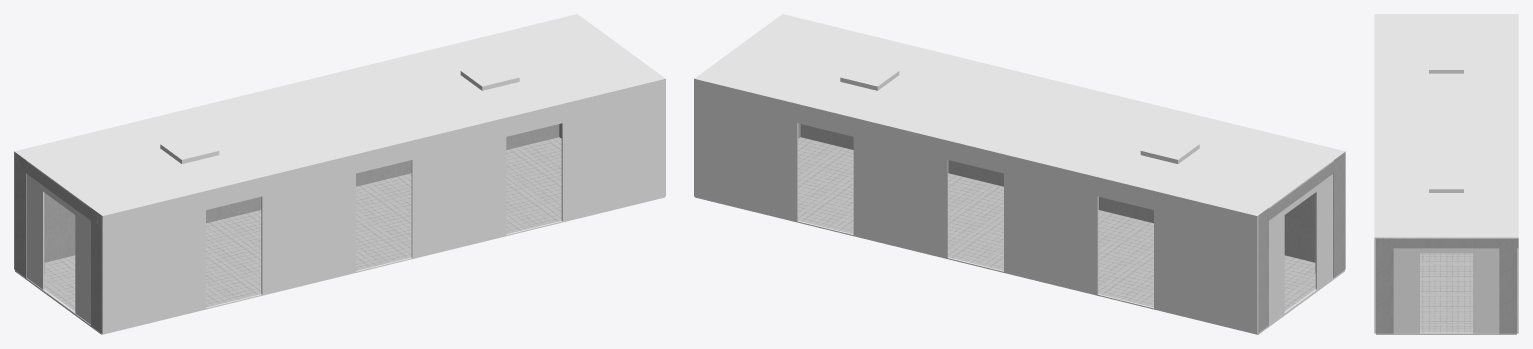
The model's file is CDATunnel1.fbx.
The picture shows the model from 3 angles, left to right: view 1: azimuth 30°, elevation 25°; view 2: azimuth 150°, elevation 25°; view 3: azimuth 270°, elevation 25°; orthographic projection. The views are drawn at different scales.
Visible parts, largest first — view 1: node_id19, node_id45, node_id48 (×2), node_id23 (×2), node_id33, node_id51 (×2), node_id42, node_id39, node_id30; view 2: node_id23, node_id45, node_id48 (×2), node_id19 (×2), node_id33, node_id51 (×2), node_id42, node_id39, node_id30; view 3: node_id45, node_id36, node_id48 (×2), node_id51 (×2), node_id27, node_id39, node_id42, node_id19, node_id23.
Boxes of the visible parts, bbox=[...] form: node_id19: bbox=[101, 78, 665, 333]; node_id45: bbox=[15, 14, 664, 215]; node_id48 (×2): bbox=[15, 137, 664, 334]; node_id23 (×2): bbox=[14, 14, 577, 269]; node_id33: bbox=[26, 174, 90, 324]; node_id51 (×2): bbox=[15, 152, 101, 332]; node_id42: bbox=[460, 61, 519, 90]; node_id39: bbox=[160, 135, 219, 163]; node_id30: bbox=[15, 153, 100, 227]; node_id23: bbox=[694, 78, 1258, 333]; node_id45: bbox=[695, 14, 1344, 215]; node_id48 (×2): bbox=[695, 137, 1344, 334]; node_id19 (×2): bbox=[782, 14, 1345, 269]; node_id33: bbox=[1256, 174, 1333, 334]; node_id51 (×2): bbox=[1258, 152, 1344, 332]; node_id42: bbox=[840, 61, 899, 90]; node_id39: bbox=[1140, 135, 1199, 163]; node_id30: bbox=[1258, 161, 1333, 228]; node_id45: bbox=[1376, 14, 1516, 238]; node_id36: bbox=[1393, 248, 1499, 333]; node_id48 (×2): bbox=[1376, 253, 1516, 334]; node_id51 (×2): bbox=[1376, 237, 1516, 333]; node_id27: bbox=[1377, 238, 1518, 248]; node_id39: bbox=[1429, 55, 1463, 73]; node_id42: bbox=[1429, 174, 1463, 192]; node_id19: bbox=[1374, 14, 1375, 333]; node_id23: bbox=[1517, 14, 1518, 333].
Size of what is drawn, in the model's own units: 0.512 by 0.1075 by 0.1393.
36 materials, 22 textured.
